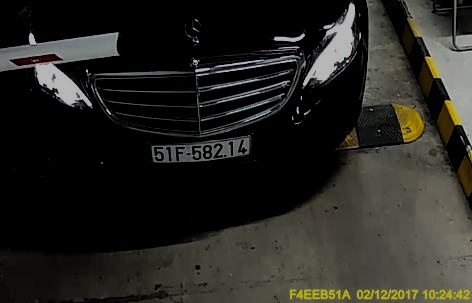plate: (145, 133, 258, 163)
